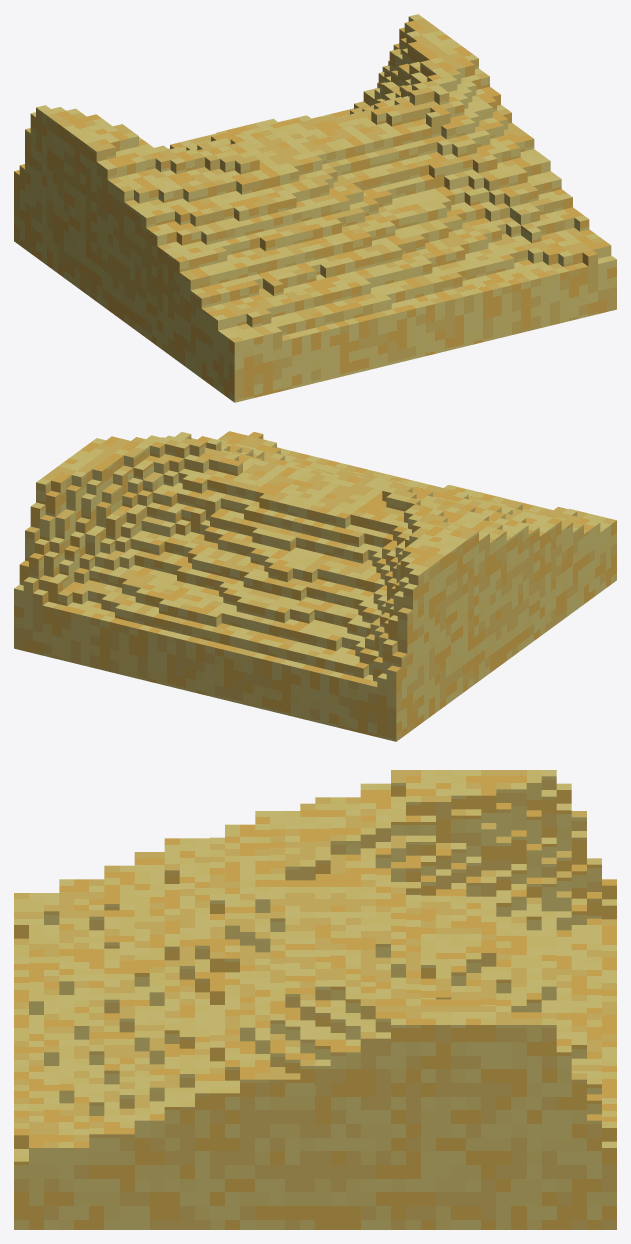
The model's file is ElevParaEE.obj.
3 renders of one model, top to bottom at view 1: azimuth 30°, elevation 25°; view 2: azimuth 150°, elevation 25°; view 3: azimuth 270°, elevation 25°, orthographic. The views are drawn at different scales.
Parts seen in each view (by area): view 1: Untitled; view 2: Untitled; view 3: Untitled.
Part boxes in pixels (x1,y1,x2,y2): Untitled: (14, 14, 616, 402); Untitled: (14, 431, 616, 741); Untitled: (14, 770, 616, 1229).
Size of the model in its own units: 4 by 1.5 by 4.
